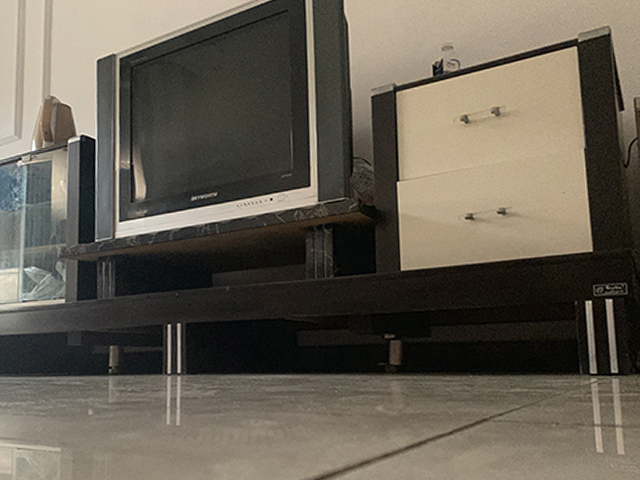cabinet: (1, 24, 640, 376)
